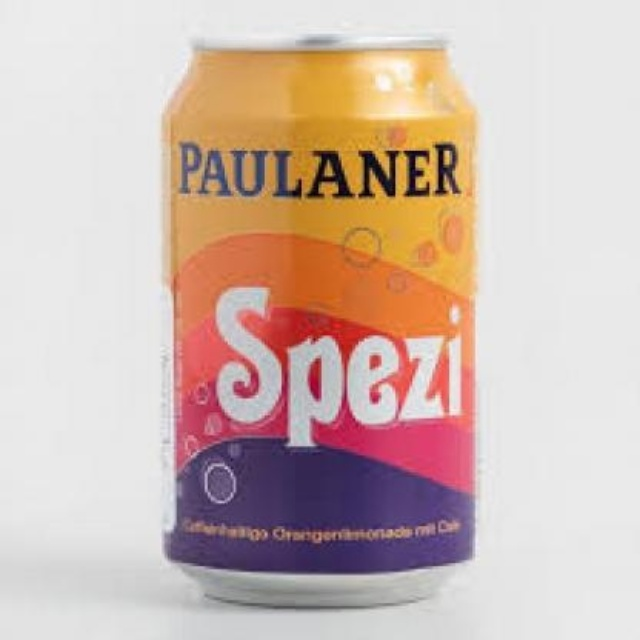trash: (165, 42, 474, 605)
